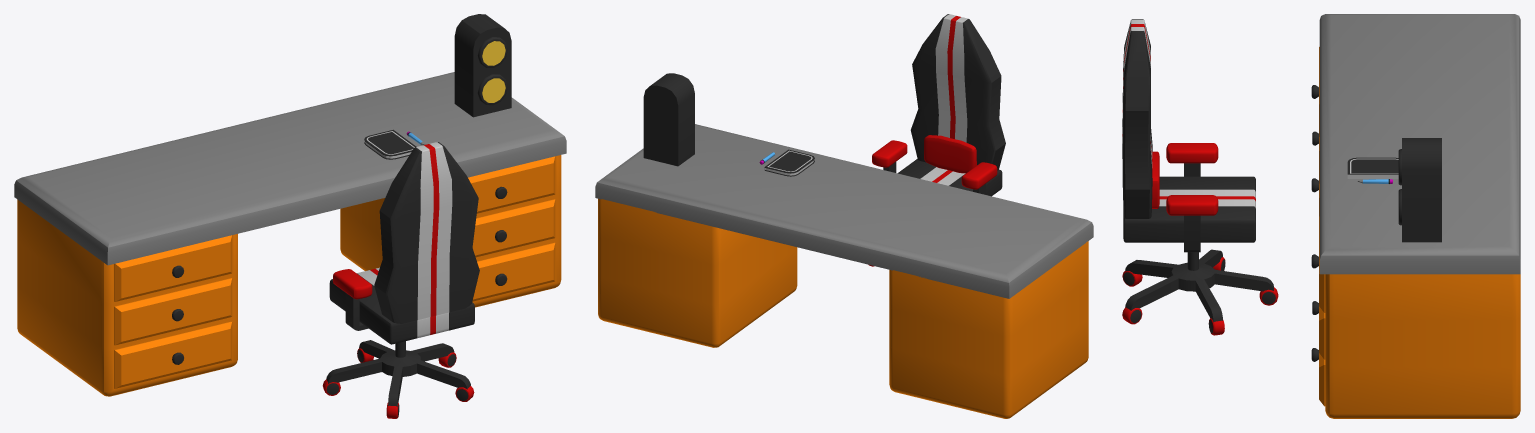
Rendered from PC Table.fbx.
The picture shows the model from 3 angles, left to right: view 1: azimuth 30°, elevation 25°; view 2: azimuth 150°, elevation 25°; view 3: azimuth 270°, elevation 25°; orthographic projection. The views are drawn at different scales.
Parts seen in each view (by area): view 1: PC Table, PC Table.004, PC Table.003, PC Table.001; view 2: PC Table, PC Table.004, PC Table.003, PC Table.001; view 3: PC Table, PC Table.004, PC Table.003, PC Table.001.
Part boxes in pixels (bbox=[...]): PC Table: bbox=[14, 72, 566, 396]; PC Table.004: bbox=[322, 142, 479, 418]; PC Table.003: bbox=[454, 14, 511, 117]; PC Table.001: bbox=[364, 129, 416, 159]; PC Table: bbox=[595, 124, 1093, 418]; PC Table.004: bbox=[868, 14, 1005, 266]; PC Table.003: bbox=[643, 73, 694, 166]; PC Table.001: bbox=[764, 149, 814, 176]; PC Table: bbox=[1311, 14, 1520, 418]; PC Table.004: bbox=[1122, 19, 1278, 335]; PC Table.003: bbox=[1398, 138, 1441, 242]; PC Table.001: bbox=[1347, 157, 1398, 178].
Size of the model in its own units: 681 by 369 by 476.
1 material, 1 textured.
